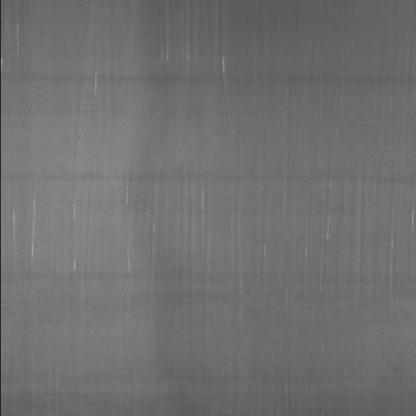waist_folding: (41, 50, 358, 333)
